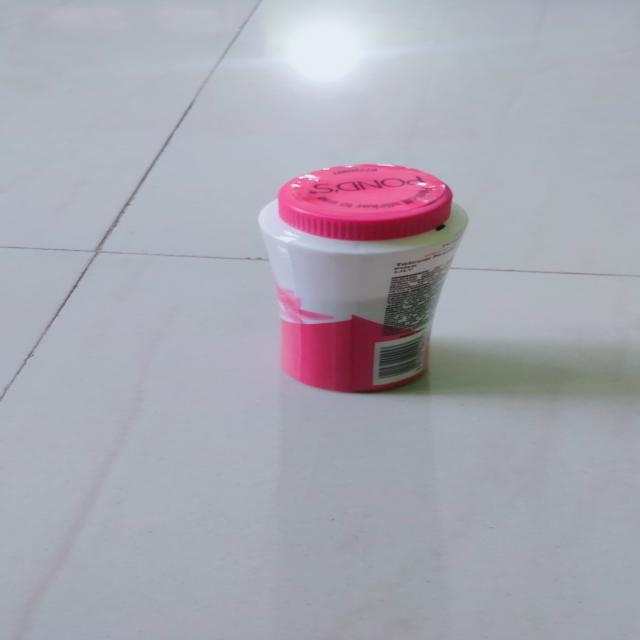powder: (242, 155, 455, 391)
